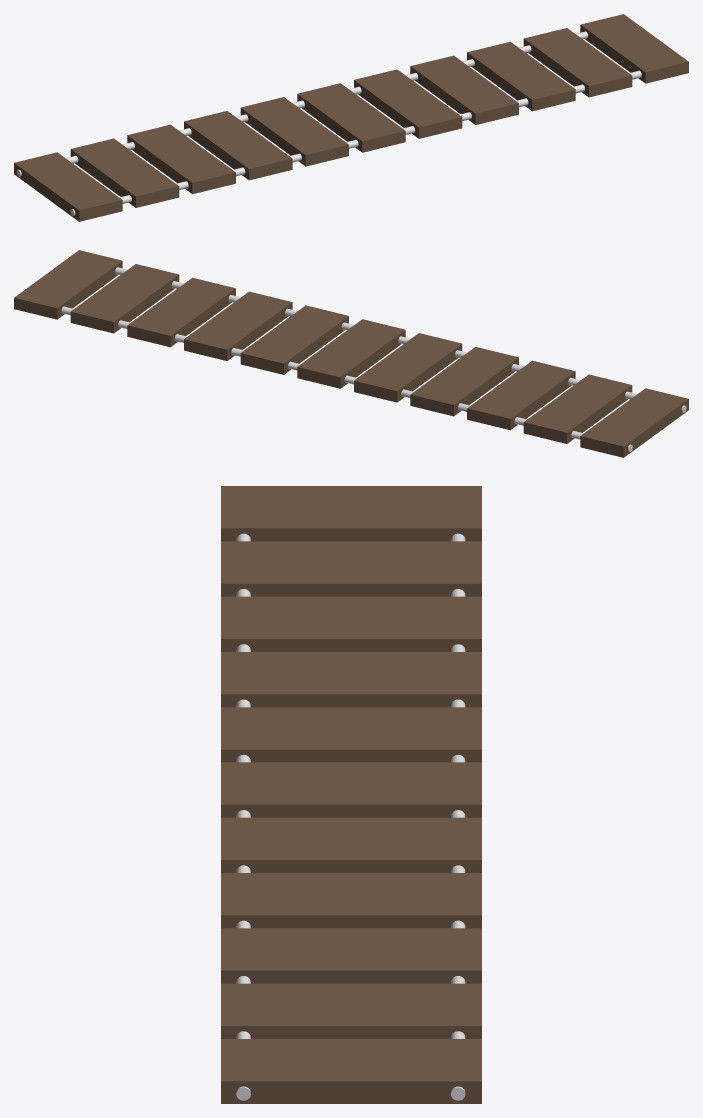
File: WinterBridge.gltf
3 renders of one model, top to bottom at view 1: azimuth 30°, elevation 25°; view 2: azimuth 150°, elevation 25°; view 3: azimuth 270°, elevation 25°, orthographic. The views are drawn at different scales.
Visible parts, largest first — view 1: Cube.010, Cube.001, Cube.009, Planks, Cube.002, Cube.005, Cube.004, Cube.007, Cube.006, Cube.008, Cube.003, Rope.R.001 (+1 smaller); view 2: Cube.010, Cube.009, Cube.001, Cube.005, Planks, Cube.004, Cube.006, Cube.008, Cube.002, Cube.003, Cube.007, Rope.L.001 (+1 smaller); view 3: Planks, Cube.004, Cube.001, Cube.008, Cube.005, Cube.002, Cube.009, Cube.006, Cube.003, Cube.010, Cube.007, Rope.R.001 (+1 smaller).
Boxes of the visible parts, x1,y1,x2,y2 form: Cube.010: [14, 152, 122, 221]; Cube.001: [523, 28, 632, 97]; Cube.009: [70, 138, 179, 207]; Planks: [580, 14, 688, 83]; Cube.002: [467, 41, 575, 111]; Cube.005: [297, 83, 405, 152]; Cube.004: [354, 69, 462, 138]; Cube.007: [184, 111, 292, 180]; Cube.006: [240, 97, 348, 166]; Cube.008: [127, 124, 235, 194]; Cube.003: [410, 55, 518, 124]; Rope.R.001: [70, 70, 641, 215]; Cube.010: [580, 388, 688, 457]; Cube.009: [523, 374, 632, 443]; Cube.001: [70, 264, 179, 333]; Cube.005: [297, 319, 405, 388]; Planks: [14, 250, 122, 319]; Cube.004: [240, 305, 348, 374]; Cube.006: [354, 333, 462, 402]; Cube.008: [467, 360, 575, 430]; Cube.002: [127, 277, 235, 347]; Cube.003: [184, 291, 292, 360]; Cube.007: [410, 347, 518, 416]; Rope.L.001: [61, 306, 632, 451]; Planks: [221, 1039, 481, 1103]; Cube.004: [221, 817, 481, 872]; Cube.001: [221, 983, 481, 1038]; Cube.008: [221, 596, 481, 651]; Cube.005: [221, 762, 481, 817]; Cube.002: [221, 928, 481, 983]; Cube.009: [221, 541, 481, 596]; Cube.006: [221, 707, 481, 762]; Cube.003: [221, 873, 481, 928]; Cube.010: [221, 486, 481, 541]; Cube.007: [221, 652, 481, 707]; Rope.R.001: [236, 533, 250, 1100].
Bounding box in the file's own units: 2.91 × 0.0516 × 0.5372.
